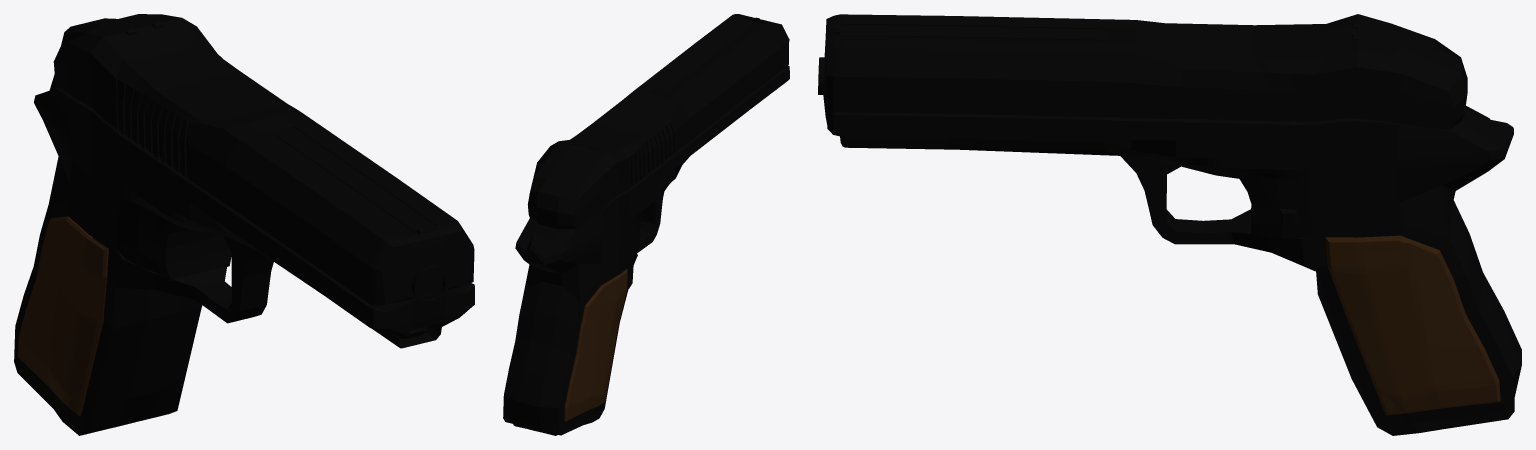
Rendered from Pistol01.fbx.
3 renders of one model, left to right at view 1: azimuth 30°, elevation 25°; view 2: azimuth 150°, elevation 25°; view 3: azimuth 270°, elevation 25°, orthographic. The views are drawn at different scales.
Visible parts, largest first — view 1: Cube; view 2: Cube; view 3: Cube.
Boxes of the visible parts, box(x1,y1,x2,y2) form: Cube: box(14, 14, 474, 435); Cube: box(503, 14, 789, 435); Cube: box(818, 14, 1521, 435).
Bounding box in the file's own units: 67.37 × 236 × 385.
